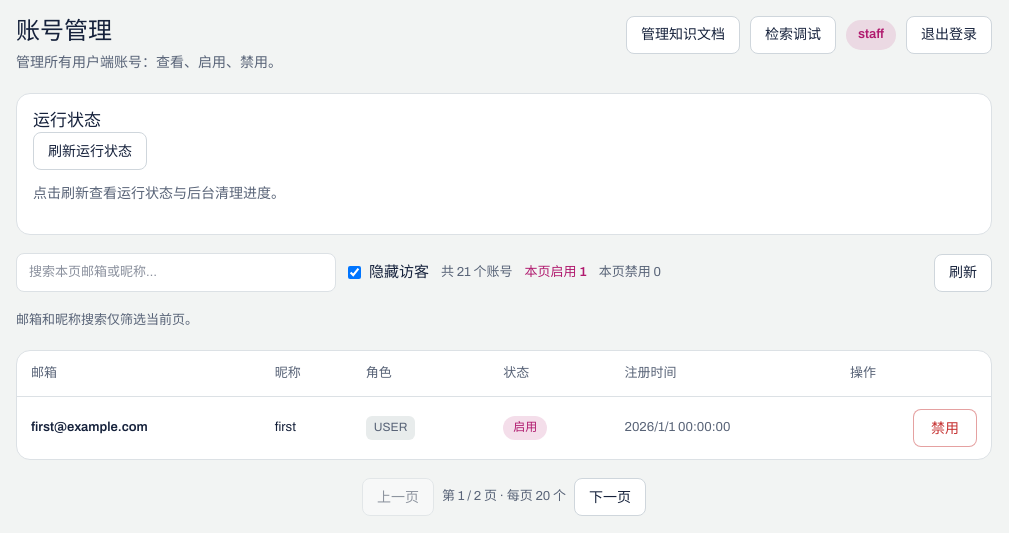
Test: 客服列表默认隐藏访客，按服务器总数翻页并在切换过滤时回到第一页
Expected: the checkbox labelled "隐藏访客" is checked, [348, 266, 361, 279]
Expected: the button "上一页" is disabled, [362, 478, 434, 516]
Click the button "下一页" at (610, 497), box [574, 478, 646, 516]
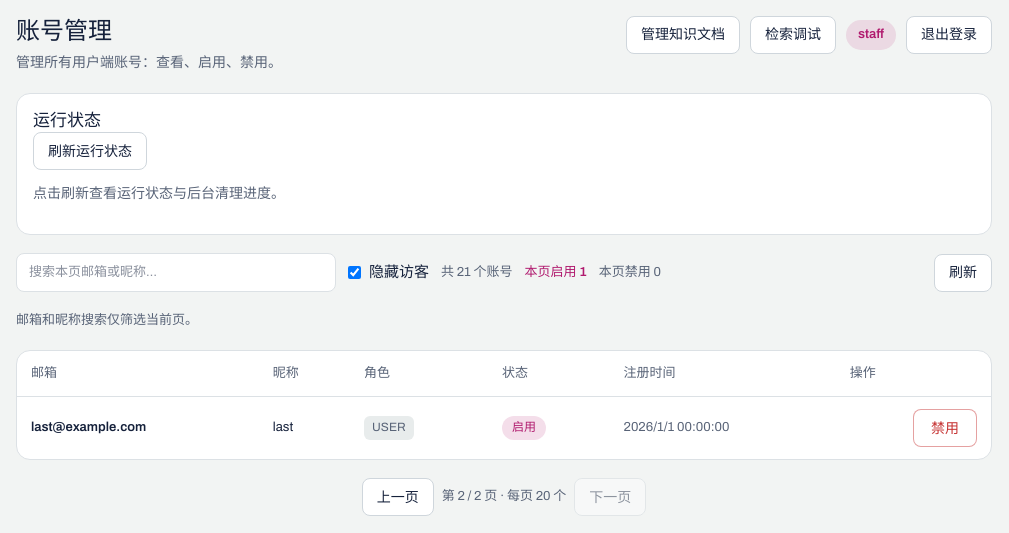
Result: the text "last@example.com" is shown at [17, 397, 259, 459]
Result: the text "第 2 / 2 页" is shown at [442, 490, 566, 504]
Result: the button "下一页" is disabled at [574, 478, 646, 516]
Click the checkbox labelled "隐藏访客" at (354, 273), box [348, 266, 361, 279]
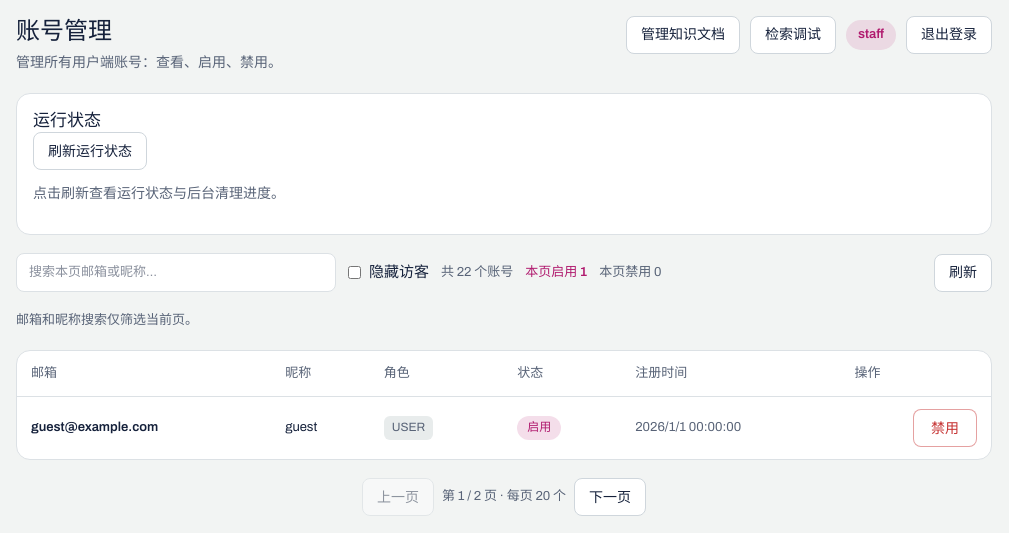
Result: the text "guest@example.com" is shown at [17, 397, 271, 459]
Result: the text "共 22 个账号" is shown at [441, 262, 513, 283]
Type "missing" into the search field with placeholder "搜索本页邮箱或昵称…" at (176, 273), box [16, 253, 336, 292]
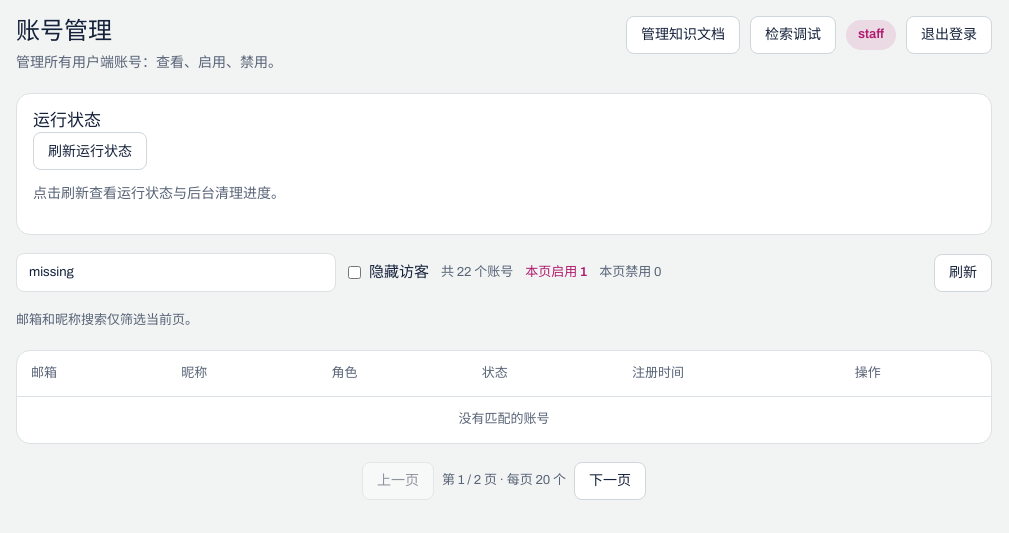
Result: the text "共 22 个账号" is shown at [441, 262, 513, 283]
Result: the text "没有匹配的账号" is shown at [17, 397, 991, 443]
